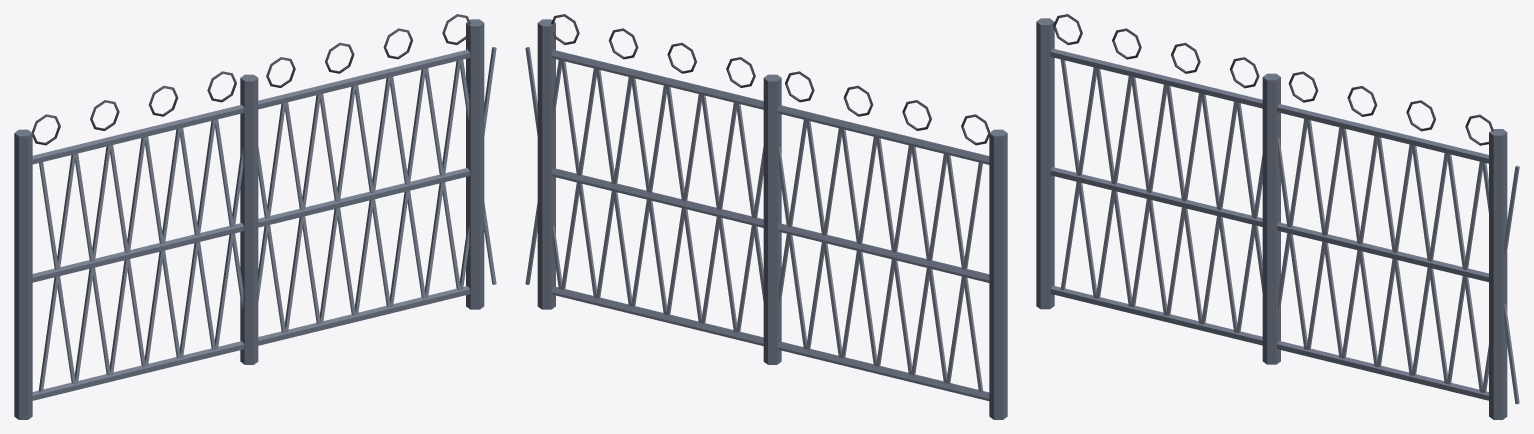
File: sv_fence.glb
The picture shows the model from 3 angles, left to right: view 1: azimuth 30°, elevation 25°; view 2: azimuth 150°, elevation 25°; view 3: azimuth 330°, elevation 25°; orthographic projection.
Parts seen in each view (by area): view 1: body; view 2: body; view 3: body.
Part boxes in pixels (<box>): body: <box>14,14,496,419</box>; body: <box>525,14,1007,419</box>; body: <box>1036,14,1519,419</box>.
Bounding box in the file's own units: 4.24 × 2.51 × 0.14.
